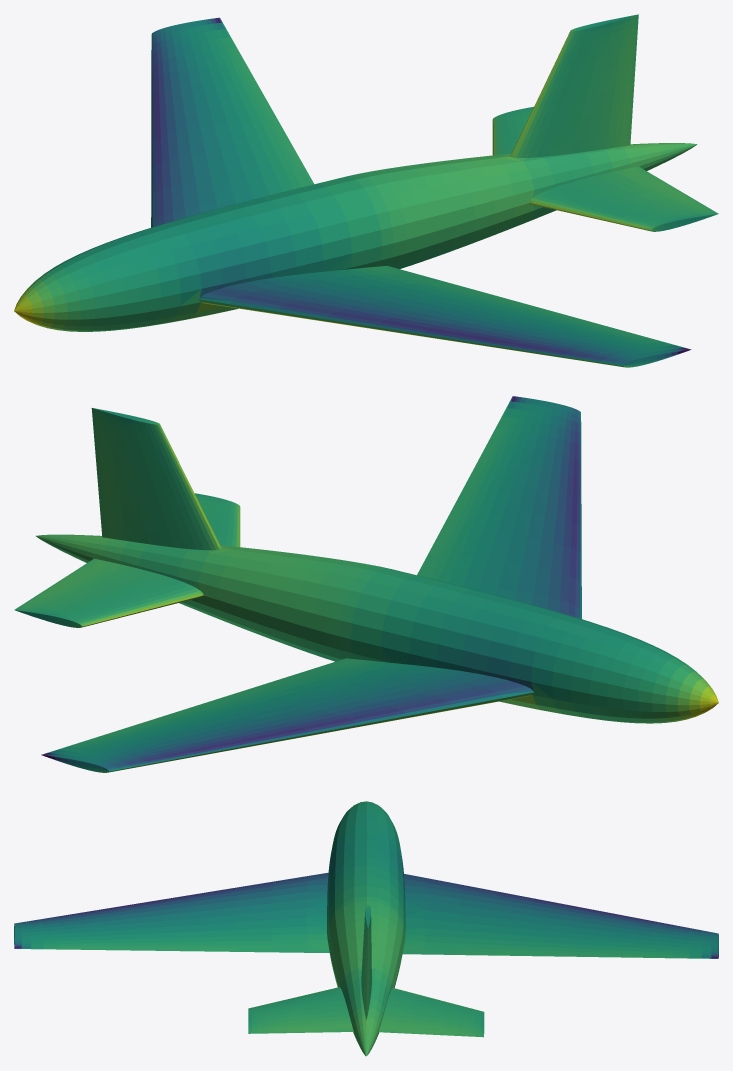
The model's file is pressure_pod_plane.glb.
3 views of the same model, one above another, from view 1: azimuth 30°, elevation 25°; view 2: azimuth 150°, elevation 25°; view 3: azimuth 270°, elevation 25° (orthographic). The views are drawn at different scales.
Visible parts, largest first — view 1: Shape_IndexedFaceSet; view 2: Shape_IndexedFaceSet; view 3: Shape_IndexedFaceSet.
Boxes of the visible parts, left/top/right/bottom form: Shape_IndexedFaceSet: left=14, top=14, right=718, bottom=367; Shape_IndexedFaceSet: left=14, top=396, right=718, bottom=772; Shape_IndexedFaceSet: left=14, top=801, right=718, bottom=1056.
Bounding box in the file's own units: 10 × 2.67 × 11.96.
